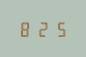eight: (18, 20, 33, 37)
five: (51, 20, 66, 37)
two: (35, 20, 50, 37)
